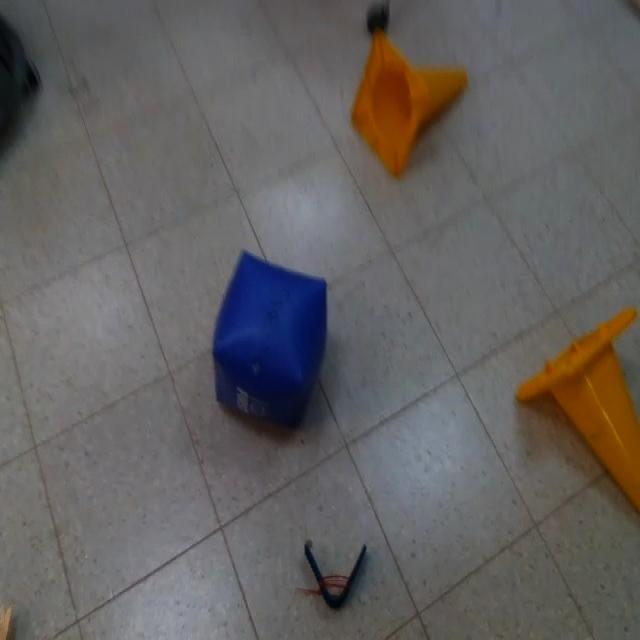cone: (517, 304, 640, 519), (350, 28, 470, 176)
cube: (212, 250, 330, 429)
